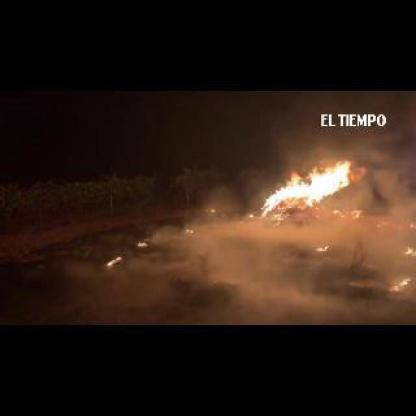fire: (249, 146, 374, 228)
